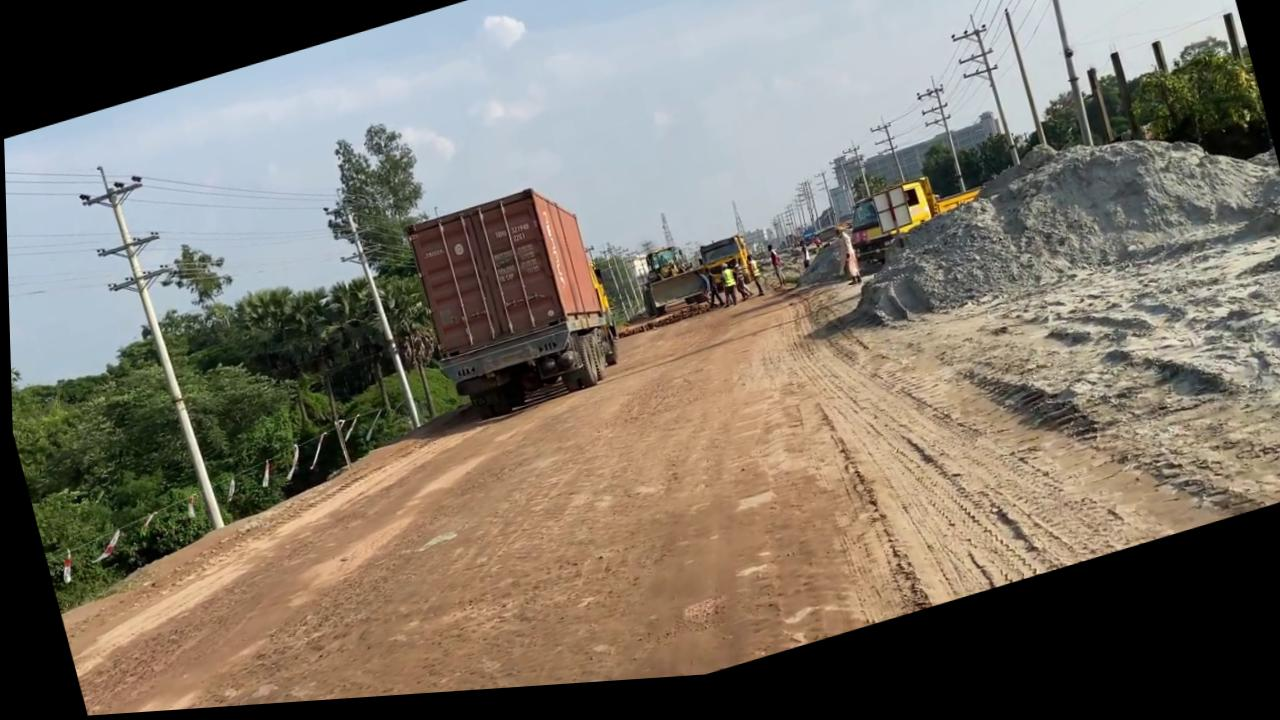Garbage: (853, 113, 1280, 366)
Obstacle: (636, 273, 713, 329)
Pole: (70, 151, 234, 549), (988, 0, 1110, 173), (342, 206, 420, 440), (1000, 18, 1045, 163)
Traffic-sign: (302, 113, 479, 443)
Tree: (395, 178, 625, 438), (619, 199, 762, 337), (836, 172, 992, 285), (627, 244, 718, 334), (693, 240, 756, 306)
